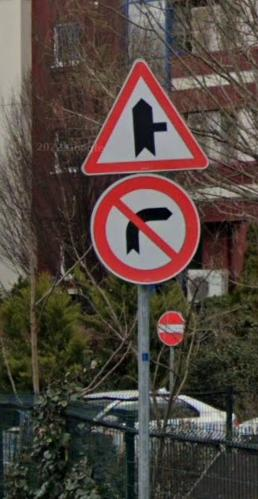rightturnsareforbidden: (95, 179, 192, 279)
